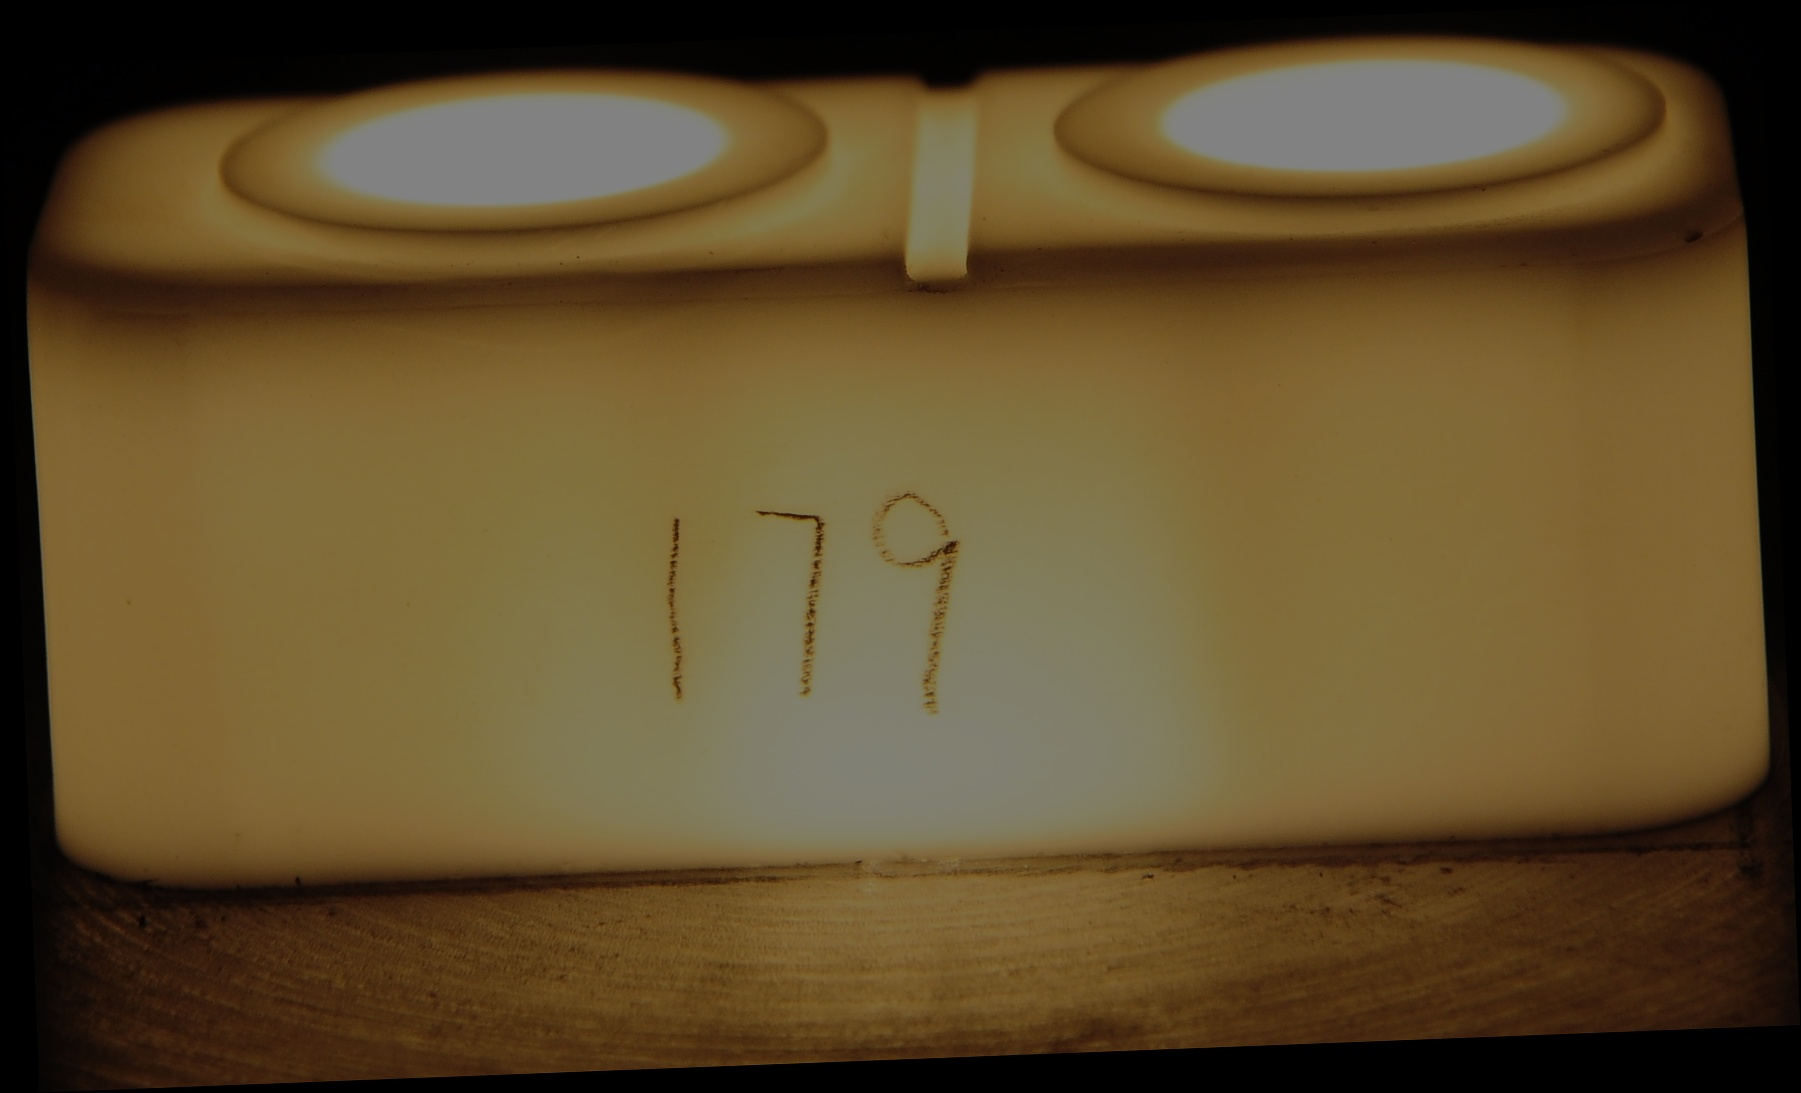flaw: (360, 296, 753, 373)
